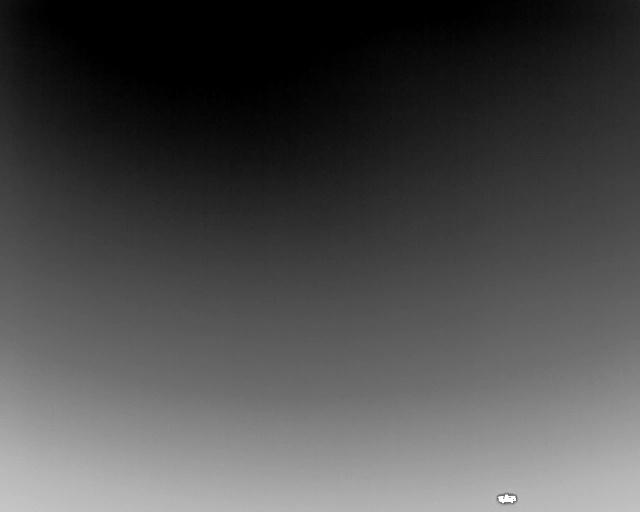fpv-drone: (496, 493, 518, 505)
